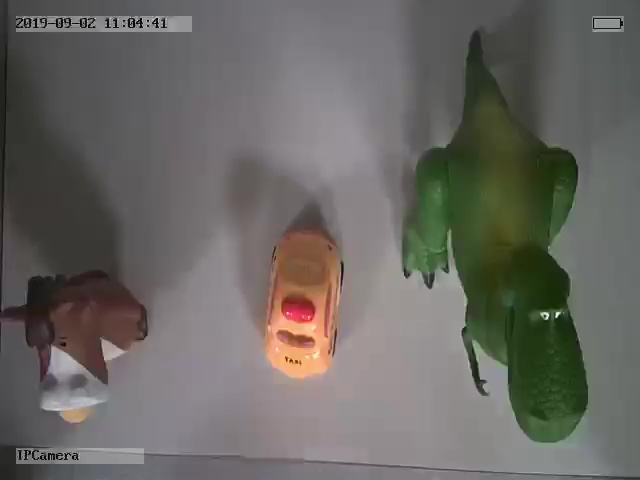car: (265, 228, 344, 379)
horse: (5, 270, 148, 424)
rex: (403, 42, 590, 443)
